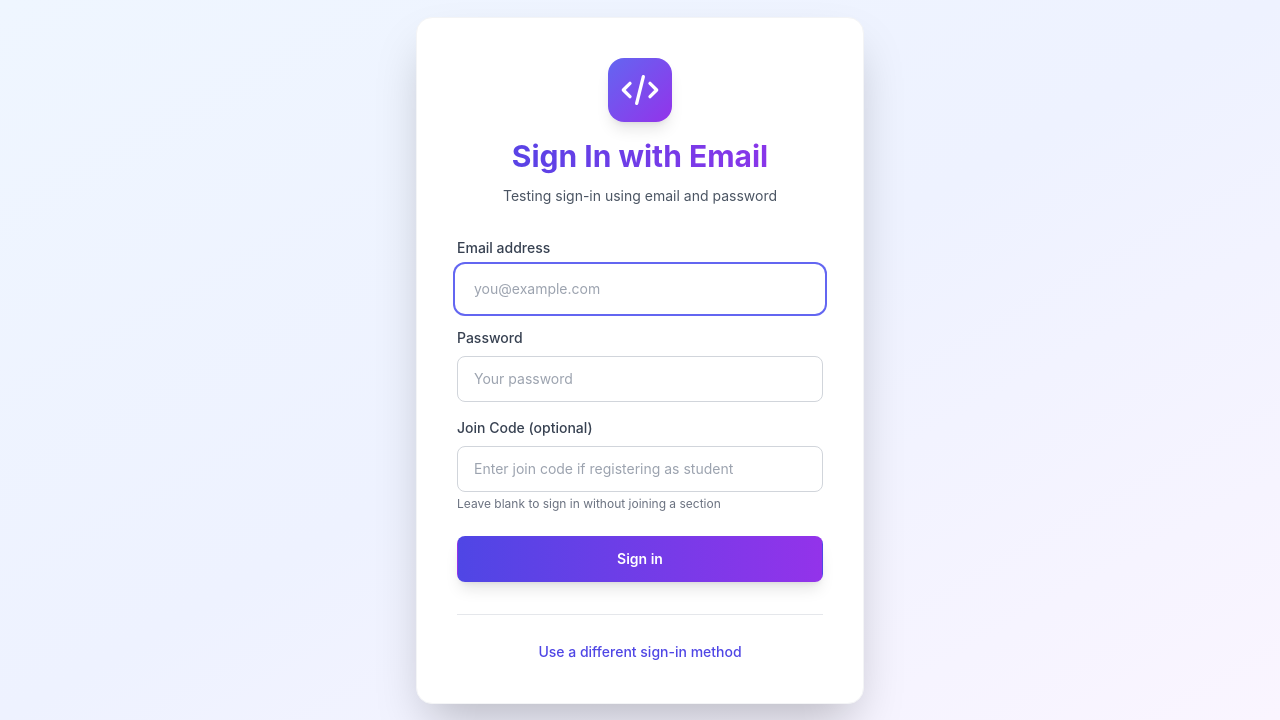
Test: EmailSignInPage › Form Validation › shows error when submitting empty email
This screenshot has width=1280, height=720.
Click the button "Sign in".
click(640, 558)  # box [457, 536, 823, 582]
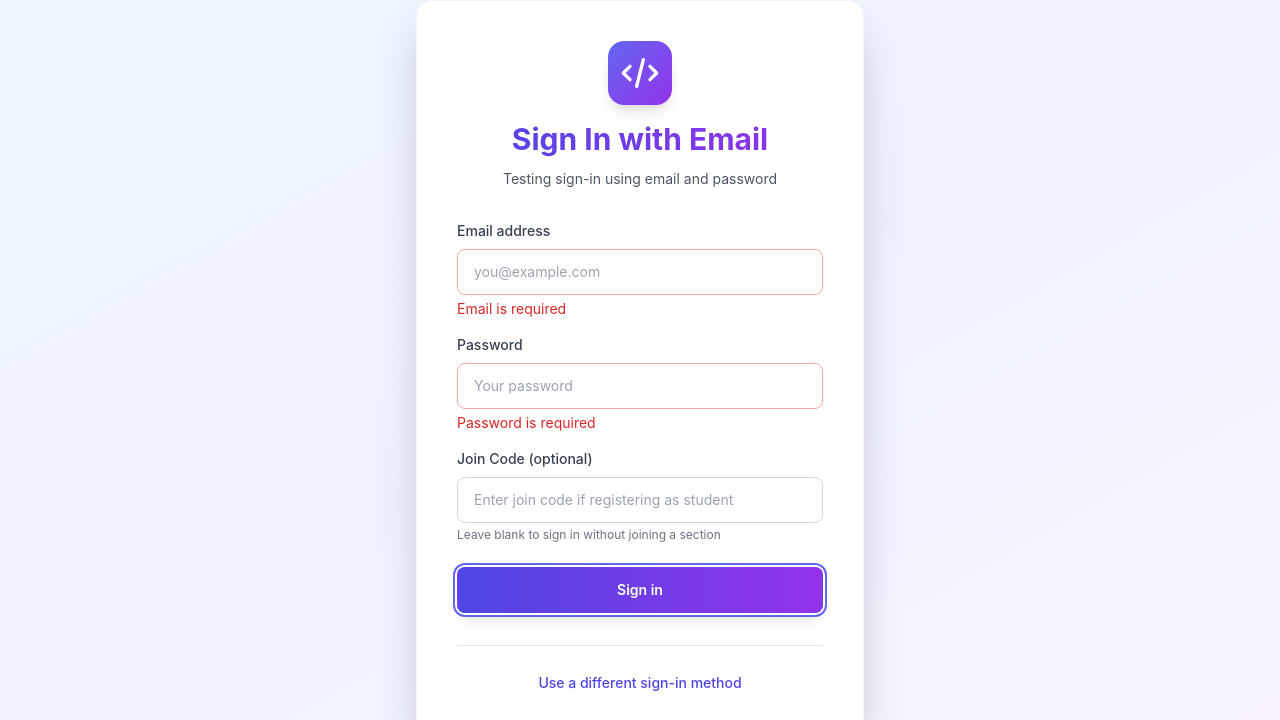
Expected: the text "Email is required" is shown, [457, 300, 566, 317]
